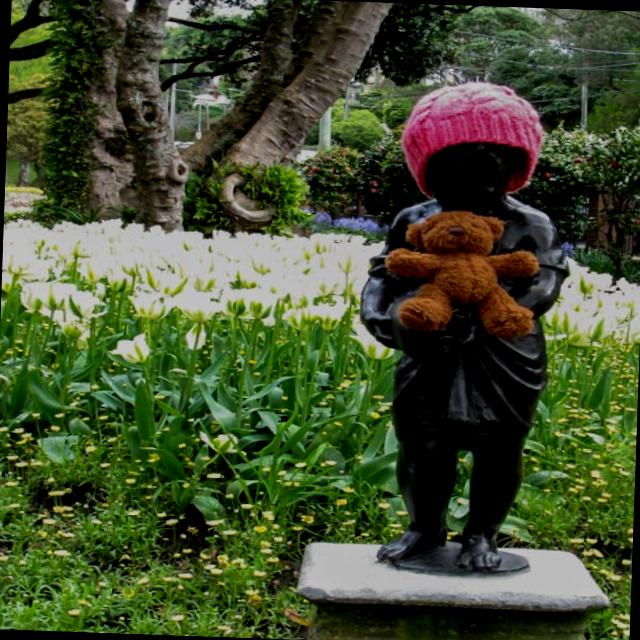Vehicle: (626, 186, 640, 254)
